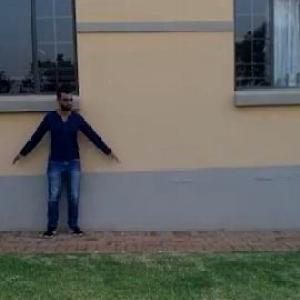land: (11, 88, 117, 249)
